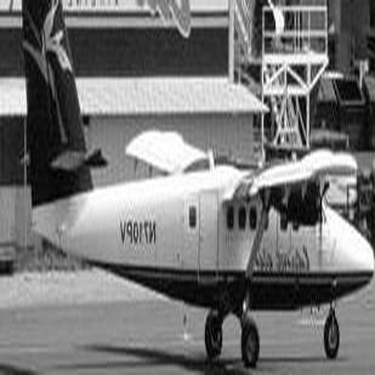airplane: (14, 1, 370, 363)
